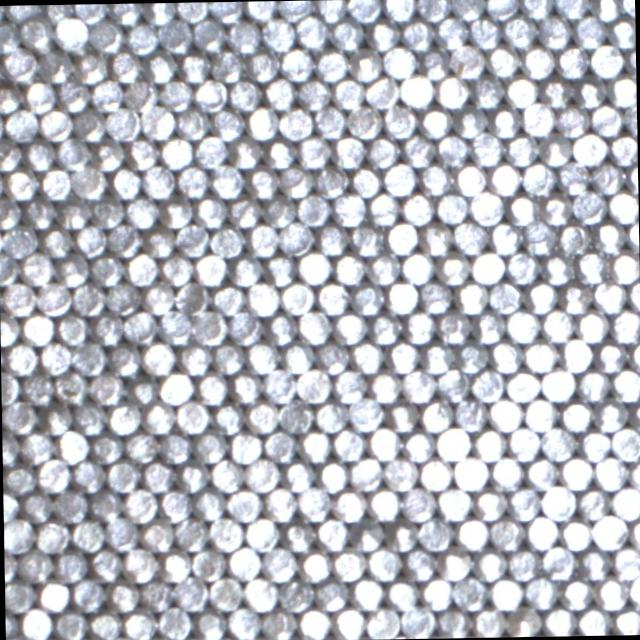tool: (226, 544, 262, 580), (452, 454, 488, 490), (244, 456, 280, 492), (280, 518, 316, 554), (452, 218, 487, 254), (52, 486, 87, 522), (2, 339, 38, 374), (105, 514, 140, 550), (70, 576, 106, 611), (279, 576, 314, 612), (468, 189, 504, 224), (417, 515, 453, 550), (122, 546, 158, 581), (243, 574, 278, 610), (226, 486, 262, 521), (540, 485, 576, 520), (278, 398, 313, 434), (488, 516, 523, 552), (19, 428, 54, 464), (173, 574, 208, 610), (590, 219, 626, 254), (591, 513, 626, 549), (313, 396, 348, 432), (140, 104, 175, 140), (40, 48, 75, 84), (472, 485, 507, 520), (571, 188, 606, 223), (453, 279, 488, 314), (191, 309, 226, 344), (435, 485, 470, 520), (1, 222, 36, 257), (243, 516, 279, 550), (18, 546, 52, 582), (314, 340, 350, 374), (332, 486, 366, 522), (332, 546, 366, 582), (470, 368, 506, 402), (507, 484, 541, 520), (298, 546, 332, 582), (348, 396, 384, 430), (418, 397, 454, 431), (558, 336, 592, 372), (472, 546, 508, 580), (72, 398, 106, 434), (296, 366, 330, 402), (54, 368, 88, 404), (536, 14, 572, 48), (245, 280, 279, 316), (435, 424, 469, 460), (210, 48, 246, 82), (540, 544, 576, 578), (262, 545, 296, 581), (296, 249, 332, 283), (190, 486, 226, 520), (576, 547, 612, 581), (470, 426, 506, 460), (3, 46, 37, 82), (138, 574, 172, 610), (190, 546, 226, 580), (400, 190, 434, 225), (88, 370, 123, 404), (453, 396, 488, 430), (140, 340, 175, 374), (314, 163, 348, 198), (176, 398, 210, 433), (70, 516, 105, 550), (314, 280, 348, 315), (507, 545, 541, 580), (72, 163, 106, 198), (454, 515, 488, 550), (366, 191, 400, 226), (402, 308, 436, 343), (20, 251, 55, 285), (2, 398, 36, 433), (71, 339, 105, 374), (558, 454, 592, 489), (18, 605, 52, 640), (350, 281, 384, 316), (403, 547, 438, 581), (192, 17, 226, 52), (296, 191, 330, 226), (22, 194, 56, 229), (54, 547, 88, 582), (592, 339, 626, 374), (417, 456, 452, 490), (332, 367, 366, 402), (22, 136, 56, 171), (278, 163, 312, 198), (297, 308, 331, 343), (124, 486, 158, 521), (208, 514, 242, 549), (383, 220, 418, 254), (505, 249, 539, 284), (296, 484, 330, 519), (366, 425, 401, 459), (419, 575, 454, 609), (419, 340, 454, 374), (382, 456, 417, 490), (452, 576, 487, 610), (192, 428, 227, 462), (228, 369, 262, 404), (279, 280, 314, 314), (522, 396, 557, 430), (436, 365, 470, 400), (488, 396, 522, 431), (106, 399, 140, 434), (348, 455, 382, 490), (314, 516, 348, 551), (524, 574, 559, 608), (331, 191, 365, 226), (157, 18, 192, 52), (436, 604, 471, 638), (297, 606, 332, 640), (2, 281, 36, 316), (382, 161, 416, 196), (34, 518, 69, 552), (105, 457, 140, 491), (226, 18, 260, 53), (433, 16, 468, 50), (383, 279, 418, 313), (70, 280, 105, 314), (261, 367, 295, 402), (124, 372, 159, 406), (106, 105, 140, 140), (262, 485, 296, 520), (469, 249, 504, 283), (400, 604, 435, 638), (88, 488, 123, 522), (469, 74, 504, 108), (39, 165, 73, 199), (506, 367, 540, 401), (294, 14, 328, 48), (142, 164, 176, 198), (472, 309, 506, 343), (401, 368, 435, 402), (524, 514, 558, 548), (504, 132, 538, 166), (278, 220, 312, 254), (368, 310, 402, 344), (124, 250, 158, 284), (450, 43, 484, 77), (210, 164, 244, 198), (140, 517, 174, 551), (74, 222, 108, 256), (20, 370, 54, 404), (176, 163, 210, 197), (589, 102, 623, 136), (208, 574, 242, 608), (400, 132, 434, 166), (177, 340, 211, 374), (505, 308, 539, 342), (194, 370, 228, 404), (574, 309, 608, 343), (280, 340, 314, 374), (554, 102, 588, 136), (260, 17, 294, 51), (540, 308, 574, 342), (522, 338, 556, 372), (54, 428, 88, 462), (210, 106, 244, 140), (365, 134, 399, 168), (572, 14, 606, 48), (278, 46, 312, 80), (400, 486, 434, 520), (453, 162, 487, 196), (502, 14, 536, 48), (590, 160, 624, 194), (418, 279, 452, 313), (350, 221, 384, 255), (350, 575, 384, 609), (350, 338, 384, 372), (245, 339, 279, 373), (142, 399, 176, 433), (560, 516, 594, 550), (385, 576, 419, 610), (176, 221, 210, 255), (280, 458, 314, 492), (367, 369, 401, 403), (470, 131, 504, 165), (557, 280, 591, 314), (576, 367, 610, 401), (331, 426, 365, 460), (158, 134, 192, 168), (20, 488, 54, 522), (418, 162, 452, 196), (576, 486, 610, 520), (572, 131, 606, 165), (313, 104, 347, 138), (194, 194, 228, 228), (90, 310, 124, 344), (176, 106, 210, 140), (297, 134, 331, 168), (90, 194, 124, 228), (506, 192, 540, 226), (468, 14, 502, 48), (124, 429, 158, 463), (40, 222, 74, 256), (158, 429, 192, 463), (194, 134, 228, 168), (593, 454, 627, 488), (90, 18, 124, 52), (228, 310, 262, 344), (524, 454, 558, 488), (521, 162, 555, 196), (332, 310, 366, 344), (347, 103, 381, 137), (418, 221, 452, 255), (278, 106, 312, 140), (592, 278, 626, 312), (488, 576, 522, 610), (20, 16, 54, 50), (314, 577, 348, 611), (366, 18, 400, 52), (157, 488, 191, 522), (228, 136, 262, 170), (20, 310, 54, 344), (506, 426, 540, 460), (245, 398, 279, 432), (90, 252, 124, 286), (314, 458, 348, 492), (434, 190, 468, 224), (54, 16, 88, 50), (540, 366, 574, 400), (520, 44, 554, 78), (314, 48, 348, 82), (366, 486, 400, 520), (54, 310, 88, 344), (92, 137, 126, 171), (485, 43, 519, 77), (399, 73, 433, 107), (523, 220, 557, 254), (106, 342, 140, 376), (352, 518, 386, 552), (455, 340, 489, 374), (332, 606, 366, 640), (124, 20, 158, 54), (488, 220, 522, 254), (122, 606, 156, 640), (503, 74, 537, 108), (36, 280, 70, 314), (194, 250, 228, 284), (400, 250, 434, 284), (106, 577, 140, 611), (381, 44, 415, 78), (438, 548, 472, 582), (262, 75, 296, 109), (314, 220, 348, 254), (365, 250, 399, 284), (158, 548, 192, 582), (36, 577, 70, 611), (227, 605, 261, 639), (542, 426, 576, 460), (297, 428, 331, 462), (73, 106, 107, 140), (262, 427, 296, 461), (592, 398, 626, 432), (158, 195, 192, 229), (262, 310, 296, 344), (56, 78, 90, 112), (158, 370, 192, 404), (208, 457, 242, 491), (192, 77, 226, 111), (210, 222, 244, 256), (453, 106, 487, 140), (554, 44, 588, 78), (560, 576, 594, 610), (330, 134, 364, 168), (4, 166, 38, 200), (192, 606, 226, 640), (38, 402, 72, 436), (122, 308, 156, 342), (56, 253, 90, 287), (401, 428, 435, 462), (36, 457, 70, 491), (296, 76, 330, 110), (261, 194, 295, 228), (364, 74, 398, 108), (262, 252, 296, 286), (330, 16, 364, 50), (574, 250, 608, 284), (70, 458, 104, 492), (366, 605, 400, 639), (436, 310, 470, 344), (2, 460, 36, 494), (158, 250, 192, 284), (38, 106, 72, 140), (366, 546, 400, 580), (106, 222, 140, 256), (488, 280, 522, 314), (594, 574, 628, 608), (142, 280, 176, 314), (488, 456, 522, 490), (56, 196, 90, 230), (434, 251, 468, 285), (158, 310, 192, 344), (383, 104, 417, 138), (157, 604, 190, 639), (506, 604, 541, 637), (89, 546, 122, 581), (89, 429, 122, 464), (210, 339, 243, 374), (260, 607, 295, 640), (38, 339, 71, 373), (349, 163, 382, 197), (246, 222, 279, 256), (54, 607, 88, 640), (175, 516, 208, 550), (125, 194, 158, 228), (123, 76, 156, 110), (228, 429, 262, 462), (125, 135, 158, 169), (245, 105, 278, 139), (558, 398, 592, 431), (524, 279, 557, 313), (228, 194, 261, 228), (556, 160, 590, 193), (537, 76, 571, 109), (418, 105, 452, 138), (538, 134, 572, 167), (211, 281, 244, 315), (142, 225, 176, 258), (386, 398, 419, 432), (87, 607, 121, 640), (74, 51, 108, 84), (489, 339, 522, 373), (105, 280, 138, 314), (577, 427, 611, 460), (538, 192, 571, 226), (385, 339, 418, 373), (158, 76, 191, 110), (228, 253, 262, 286), (386, 519, 419, 553), (332, 250, 365, 284), (417, 46, 451, 79), (487, 104, 520, 138), (174, 459, 208, 492), (56, 137, 90, 170), (330, 76, 364, 109), (606, 188, 638, 223), (608, 307, 640, 342), (471, 606, 506, 638), (212, 399, 244, 434), (175, 280, 210, 312), (609, 483, 640, 519), (108, 165, 141, 198), (401, 16, 434, 49), (109, 48, 142, 81), (90, 77, 123, 110), (263, 136, 296, 169), (140, 459, 173, 492), (177, 49, 210, 82), (4, 107, 37, 140), (435, 133, 468, 166), (608, 366, 640, 400), (246, 48, 278, 82), (488, 162, 520, 196), (22, 78, 54, 112), (522, 101, 554, 135), (590, 42, 622, 76), (558, 220, 590, 254), (608, 250, 640, 284), (436, 74, 468, 108), (574, 75, 606, 109), (542, 604, 576, 636), (228, 76, 260, 110), (3, 516, 33, 552), (540, 252, 573, 284), (144, 49, 176, 82), (348, 49, 381, 81), (576, 605, 610, 636), (610, 425, 640, 460), (246, 166, 278, 198), (4, 578, 34, 612), (608, 132, 638, 166), (606, 73, 636, 107), (611, 544, 640, 579), (610, 604, 640, 635), (608, 16, 636, 48), (143, 2, 175, 28), (108, 3, 142, 25), (313, 0, 346, 22), (209, 1, 243, 22), (0, 137, 21, 171), (41, 4, 73, 26), (348, 0, 381, 21), (0, 196, 21, 229), (588, 0, 621, 21), (176, 1, 208, 22), (382, 0, 414, 21), (278, 0, 310, 21), (450, 0, 483, 20), (415, 0, 448, 20), (555, 0, 588, 20), (485, 0, 518, 20), (0, 81, 21, 112), (0, 312, 19, 346), (0, 251, 19, 285), (520, 0, 553, 19), (1, 370, 20, 403), (2, 431, 20, 465), (244, 1, 276, 20), (0, 22, 19, 54), (73, 4, 106, 22), (6, 5, 38, 22), (2, 490, 18, 522), (4, 548, 18, 582), (628, 516, 640, 550), (628, 573, 640, 607)
